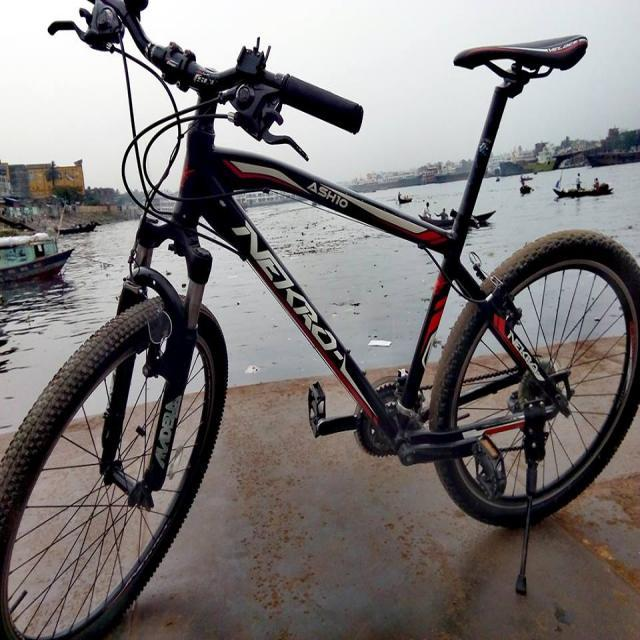Bicycle: (2, 1, 640, 640)
